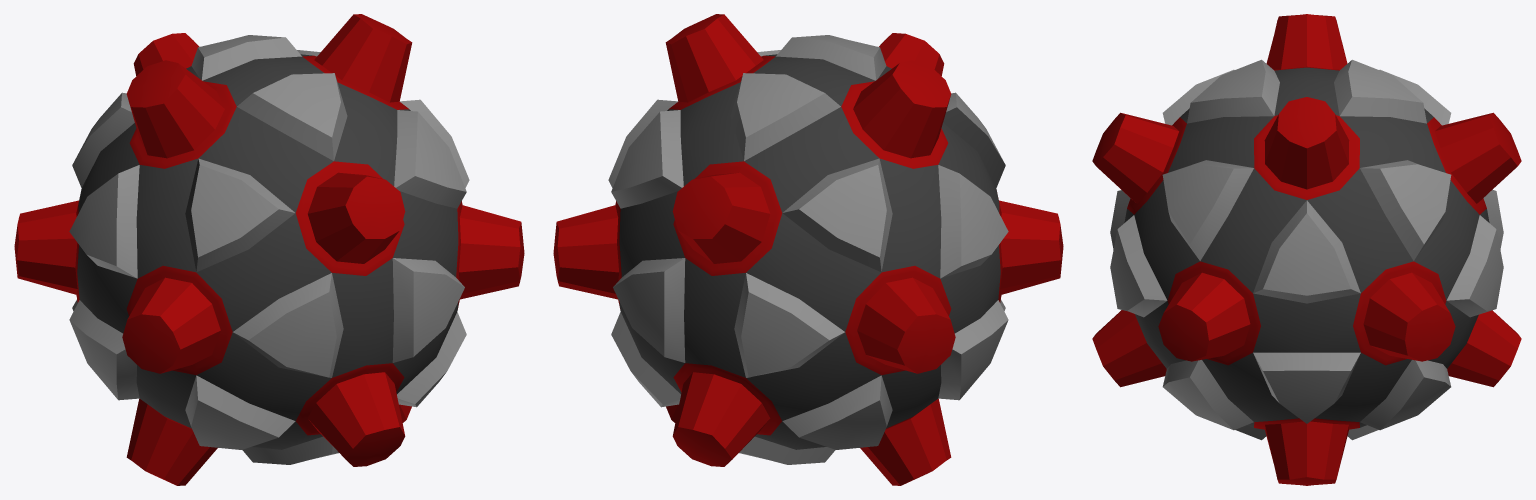
Rendered from bomb.fbx.
3 views of the same model, side by side, from view 1: azimuth 30°, elevation 25°; view 2: azimuth 150°, elevation 25°; view 3: azimuth 270°, elevation 25° (orthographic). The views are drawn at different scales.
Visible parts, largest first — view 1: pSolid2; view 2: pSolid2; view 3: pSolid2.
Boxes of the visible parts, x1,y1,x2,y2 form: pSolid2: [14, 14, 524, 485]; pSolid2: [553, 14, 1063, 485]; pSolid2: [1092, 14, 1521, 485].
Bounding box in the file's own units: 3.93 × 3.93 × 3.93.
